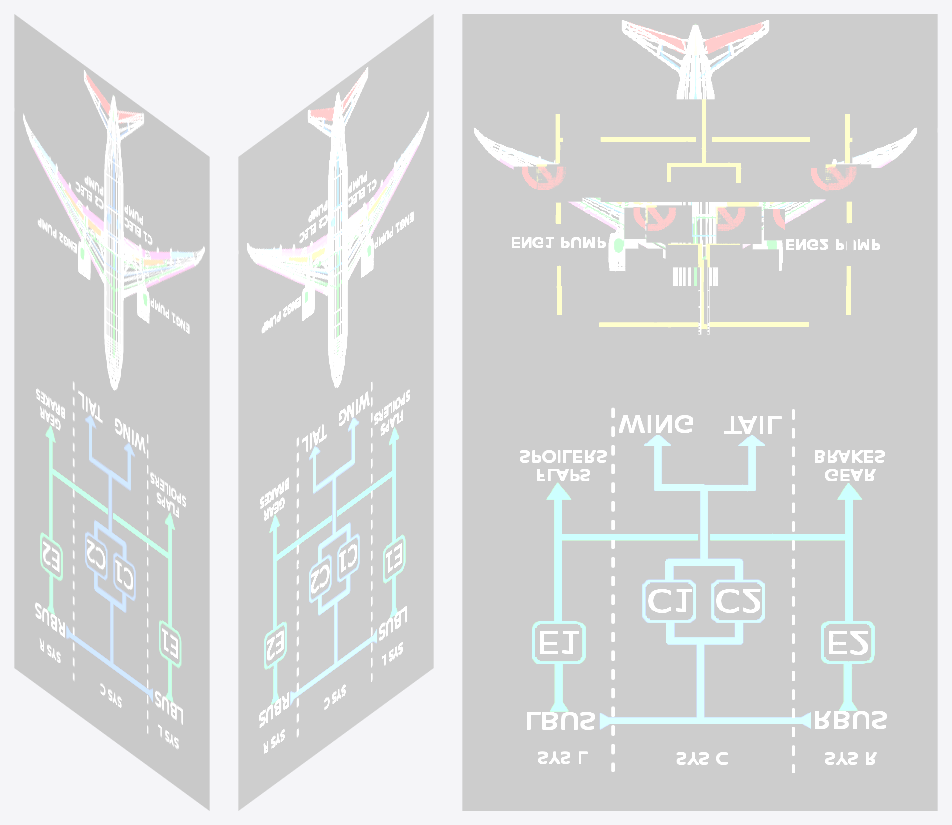
File: hyd.glb
3 renders of one model, left to right at view 1: azimuth 30°, elevation 25°; view 2: azimuth 150°, elevation 25°; view 3: azimuth 270°, elevation 25°, orthographic. The views are drawn at different scales.
Parts seen in each view (by area): view 1: box; view 2: box; view 3: box, c.pwr, e.run, c.run, e1.run, e2.run, c1.click, c2.click, e2.click, e1.click, e2.warn, c1.warn (+6 smaller).
Boxes of the visible parts, bbox=[...] form: box: bbox=[14, 14, 209, 810]; box: bbox=[238, 14, 433, 810]; box: bbox=[462, 14, 937, 810]; c.pwr: bbox=[600, 99, 809, 201]; e.run: bbox=[553, 286, 854, 337]; c.run: bbox=[654, 259, 756, 388]; e1.run: bbox=[513, 166, 604, 197]; e2.run: bbox=[802, 168, 893, 199]; c1.click: bbox=[647, 207, 688, 238]; c2.click: bbox=[717, 207, 758, 238]; e2.click: bbox=[828, 166, 869, 197]; e1.click: bbox=[538, 166, 579, 197]; e2.warn: bbox=[855, 206, 892, 235]; c1.warn: bbox=[625, 248, 662, 277].
Size of the model in its own units: 0.000182 by 0.2722 by 0.1472.
Materials: 2 (2 with a texture image).
